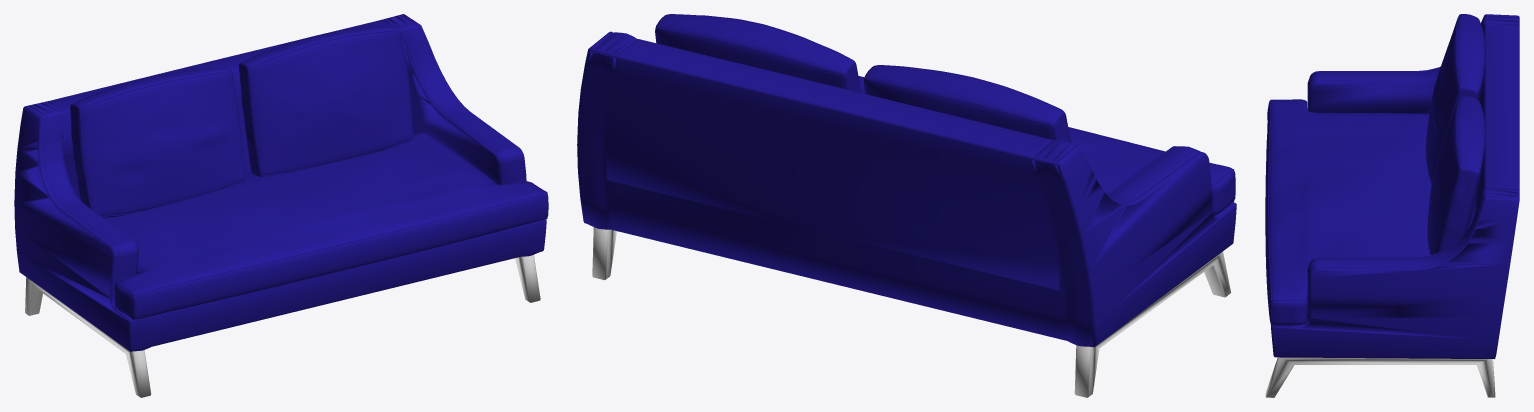
3 views of the same model, side by side, from view 1: azimuth 30°, elevation 25°; view 2: azimuth 150°, elevation 25°; view 3: azimuth 270°, elevation 25° (orthographic). The views are drawn at different scales.
Visible parts, largest first — view 1: buffer-0-mesh-0_2_2, buffer-0-mesh-0_1_1, buffer-0-mesh-0_0; view 2: buffer-0-mesh-0_1_1, buffer-0-mesh-0_2_2, buffer-0-mesh-0_0; view 3: buffer-0-mesh-0_1_1, buffer-0-mesh-0_2_2, buffer-0-mesh-0_0.
Part boxes in pixels (bbox=[...]): buffer-0-mesh-0_2_2: bbox=[70, 25, 548, 319]; buffer-0-mesh-0_1_1: bbox=[14, 14, 547, 351]; buffer-0-mesh-0_0: bbox=[25, 254, 540, 397]; buffer-0-mesh-0_1_1: bbox=[577, 14, 1236, 347]; buffer-0-mesh-0_2_2: bbox=[655, 14, 1235, 215]; buffer-0-mesh-0_0: bbox=[592, 227, 1230, 397]; buffer-0-mesh-0_1_1: bbox=[1268, 14, 1519, 359]; buffer-0-mesh-0_2_2: bbox=[1265, 14, 1485, 325]; buffer-0-mesh-0_0: bbox=[1265, 357, 1495, 397].
Size of the model in its own units: 1.63 by 0.8148 by 0.8617.
